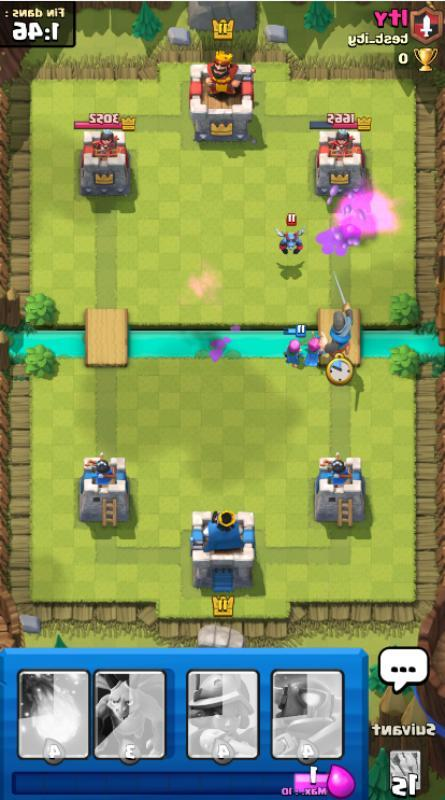archere: (284, 324, 307, 367), (303, 331, 325, 368)
chevalier: (319, 270, 354, 358)
gargouille: (277, 213, 306, 255)
